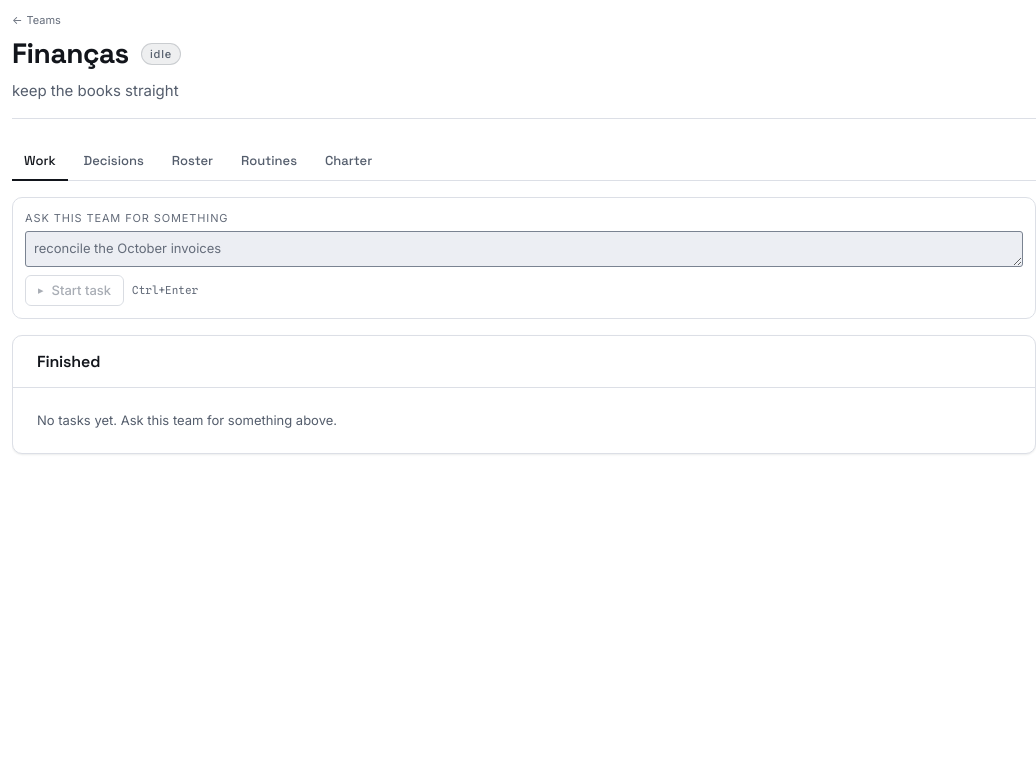
Test: Bench - Work › names the specialist the núcleo says is missing when a task will not start
Type "find leads" into the text box labelled "Ask this team for something" at [524, 249], box x1=25 y1=231 x2=1023 y2=267
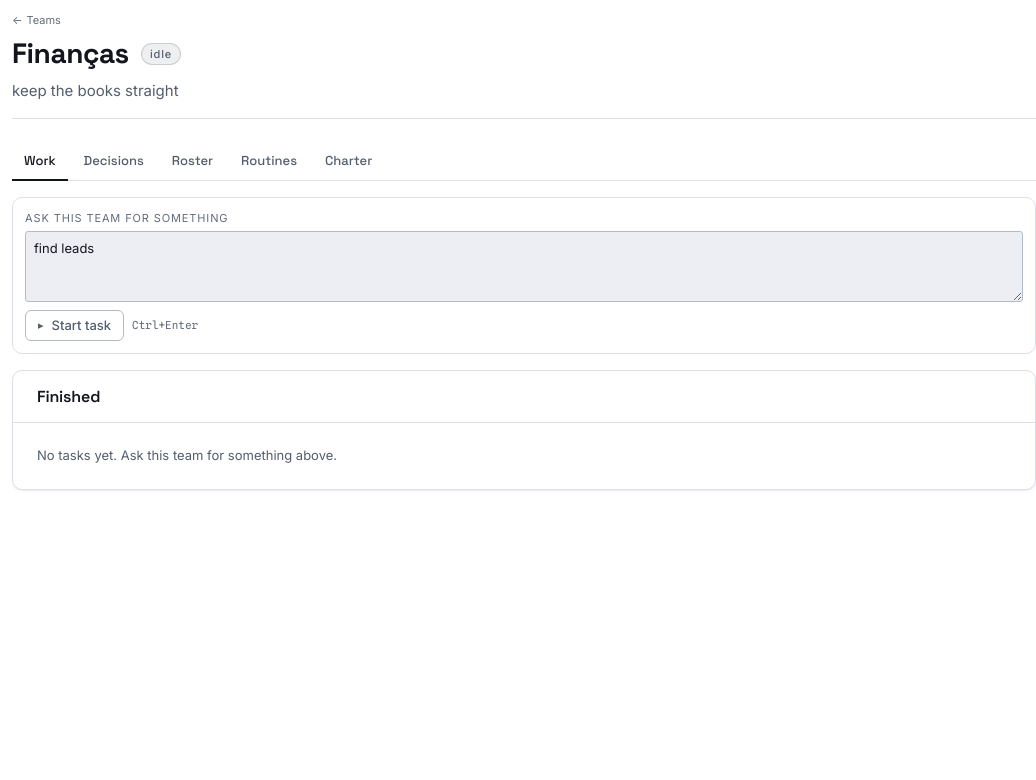
Click the button "Start task" at [75, 325], box x1=25 y1=310 x2=124 y2=341
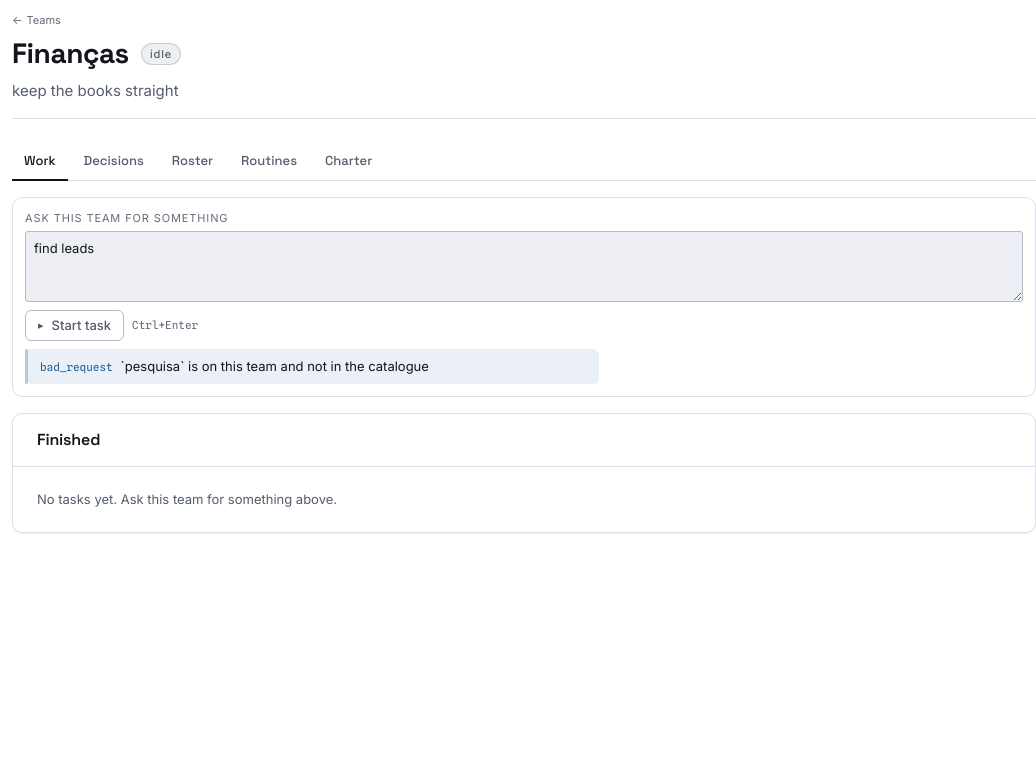
Result: the text "`pesquisa` is on this team and not in the catalogue" is shown at x1=121 y1=358 x2=429 y2=375
